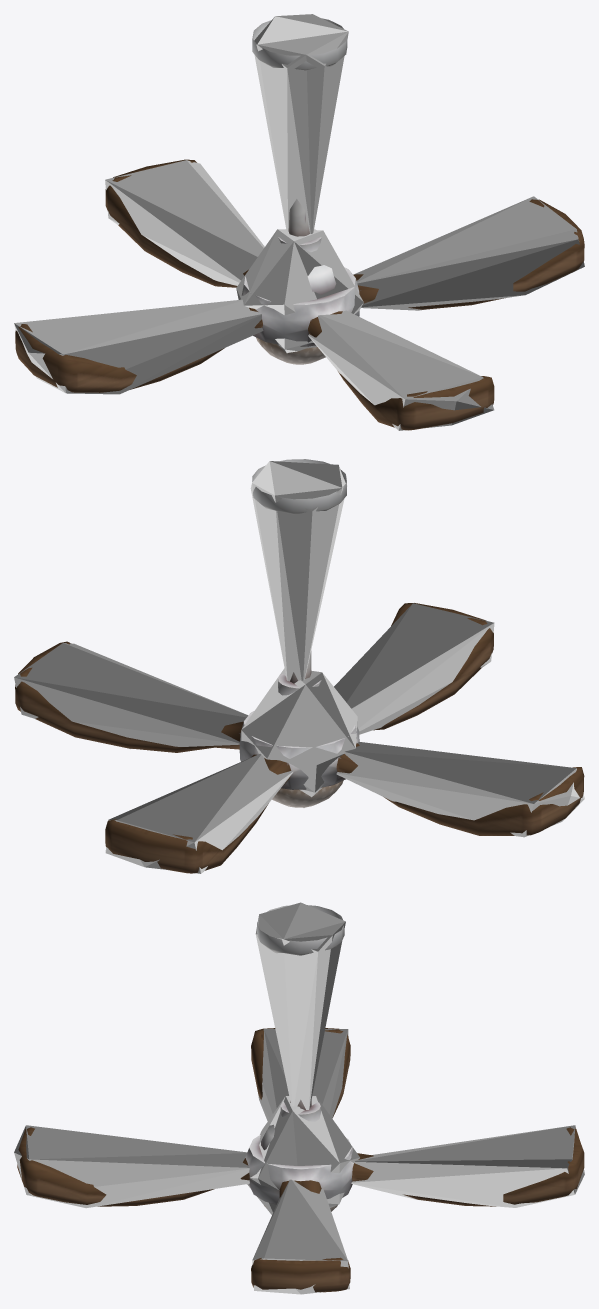
Rendered from SM_FanCeiling01.fbx.
3 views of the same model, one above another, from view 1: azimuth 30°, elevation 25°; view 2: azimuth 150°, elevation 25°; view 3: azimuth 270°, elevation 25° (orthographic). The views are drawn at different scales.
Visible parts, largest first — view 1: SM_FanCeiling01_ConvexHulls, SM_FanCeiling01; view 2: SM_FanCeiling01_ConvexHulls, SM_FanCeiling01; view 3: SM_FanCeiling01_ConvexHulls, SM_FanCeiling01.
Part boxes in pixels (x1,y1,x2,y2): SM_FanCeiling01_ConvexHulls: (14,14,584,430); SM_FanCeiling01: (15,18,584,430); SM_FanCeiling01_ConvexHulls: (14,461,584,873); SM_FanCeiling01: (15,459,584,873); SM_FanCeiling01_ConvexHulls: (14,902,584,1294); SM_FanCeiling01: (17,905,584,1292).
Size of the model in its own units: 126 by 126 by 73.26.
2 materials, 1 textured.
